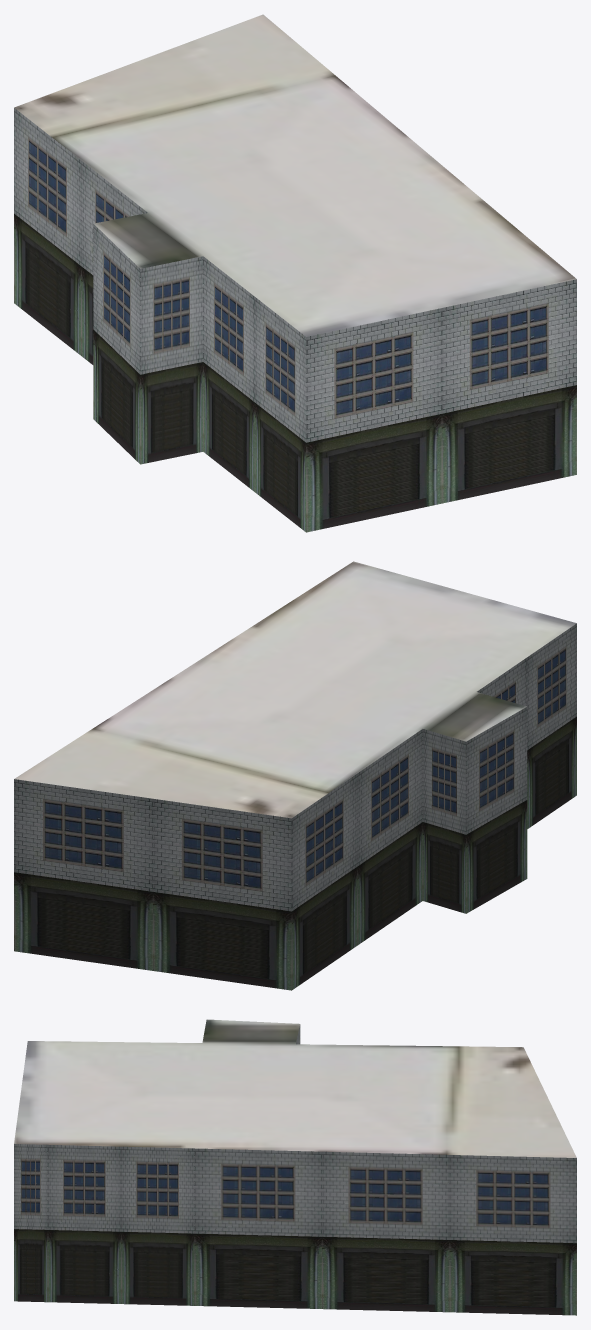
The model's file is T_1SXA64NVCN.dae.
3 renders of one model, top to bottom at view 1: azimuth 30°, elevation 25°; view 2: azimuth 150°, elevation 25°; view 3: azimuth 270°, elevation 25°, orthographic. The views are drawn at different scales.
Visible parts, largest first — view 1: SketchUp (×11); view 2: SketchUp (×11); view 3: SketchUp (×7).
Part boxes in pixels (x1,y1,x2,y2): SketchUp (×11): [14, 14, 576, 532]; SketchUp (×11): [14, 561, 576, 990]; SketchUp (×7): [14, 1019, 576, 1315].
Size of the model in its own units: 13.56 by 23.27 by 7.18.
Materials: 3 (3 with a texture image).
